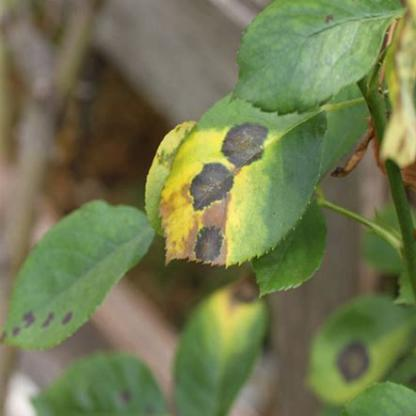black-spot: (184, 132, 282, 256)
